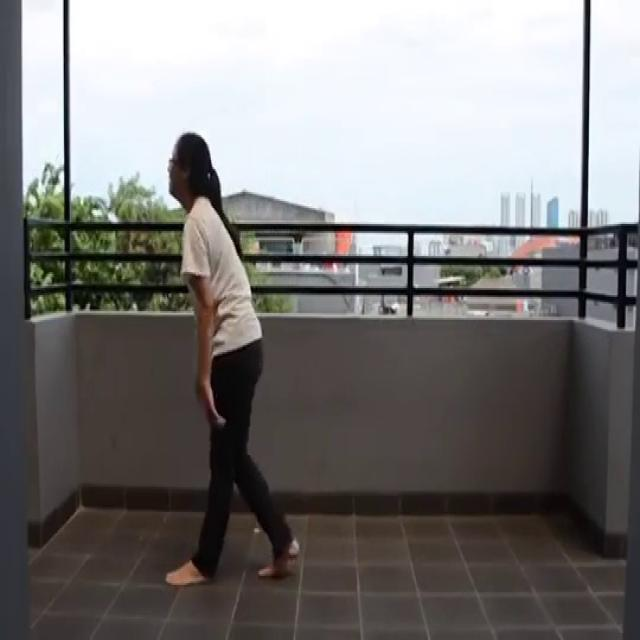normal: (152, 124, 310, 590)
